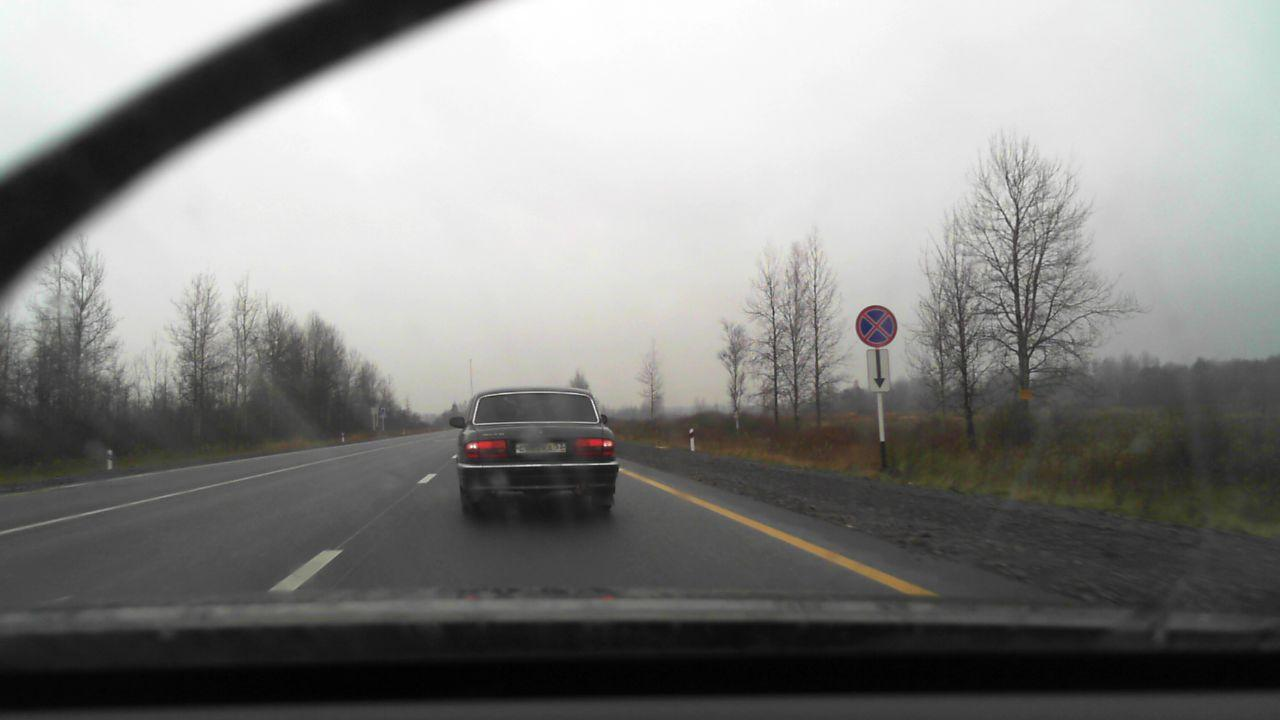3_27: (856, 307, 901, 347)
8_2_3: (866, 349, 889, 391)
